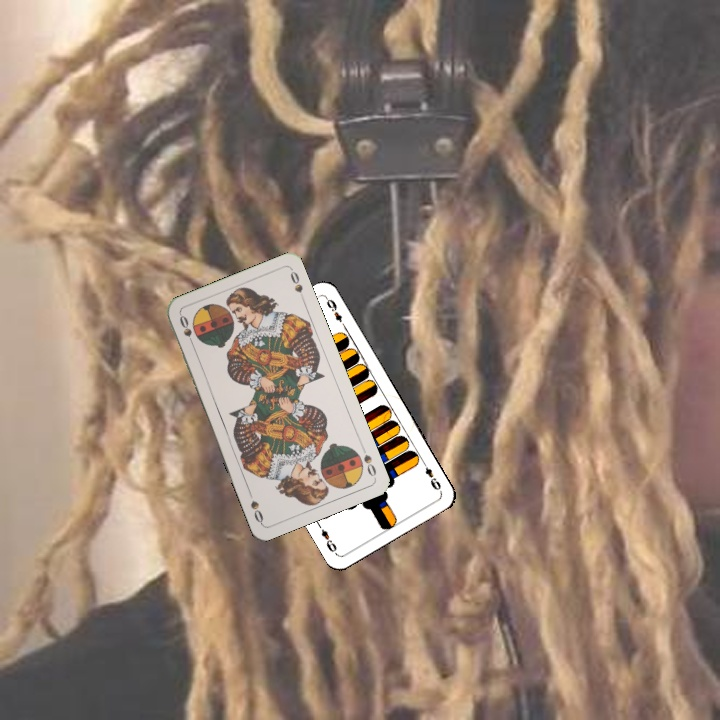E9: (418, 457, 444, 493)
SO: (175, 311, 197, 350), (357, 441, 379, 479)
